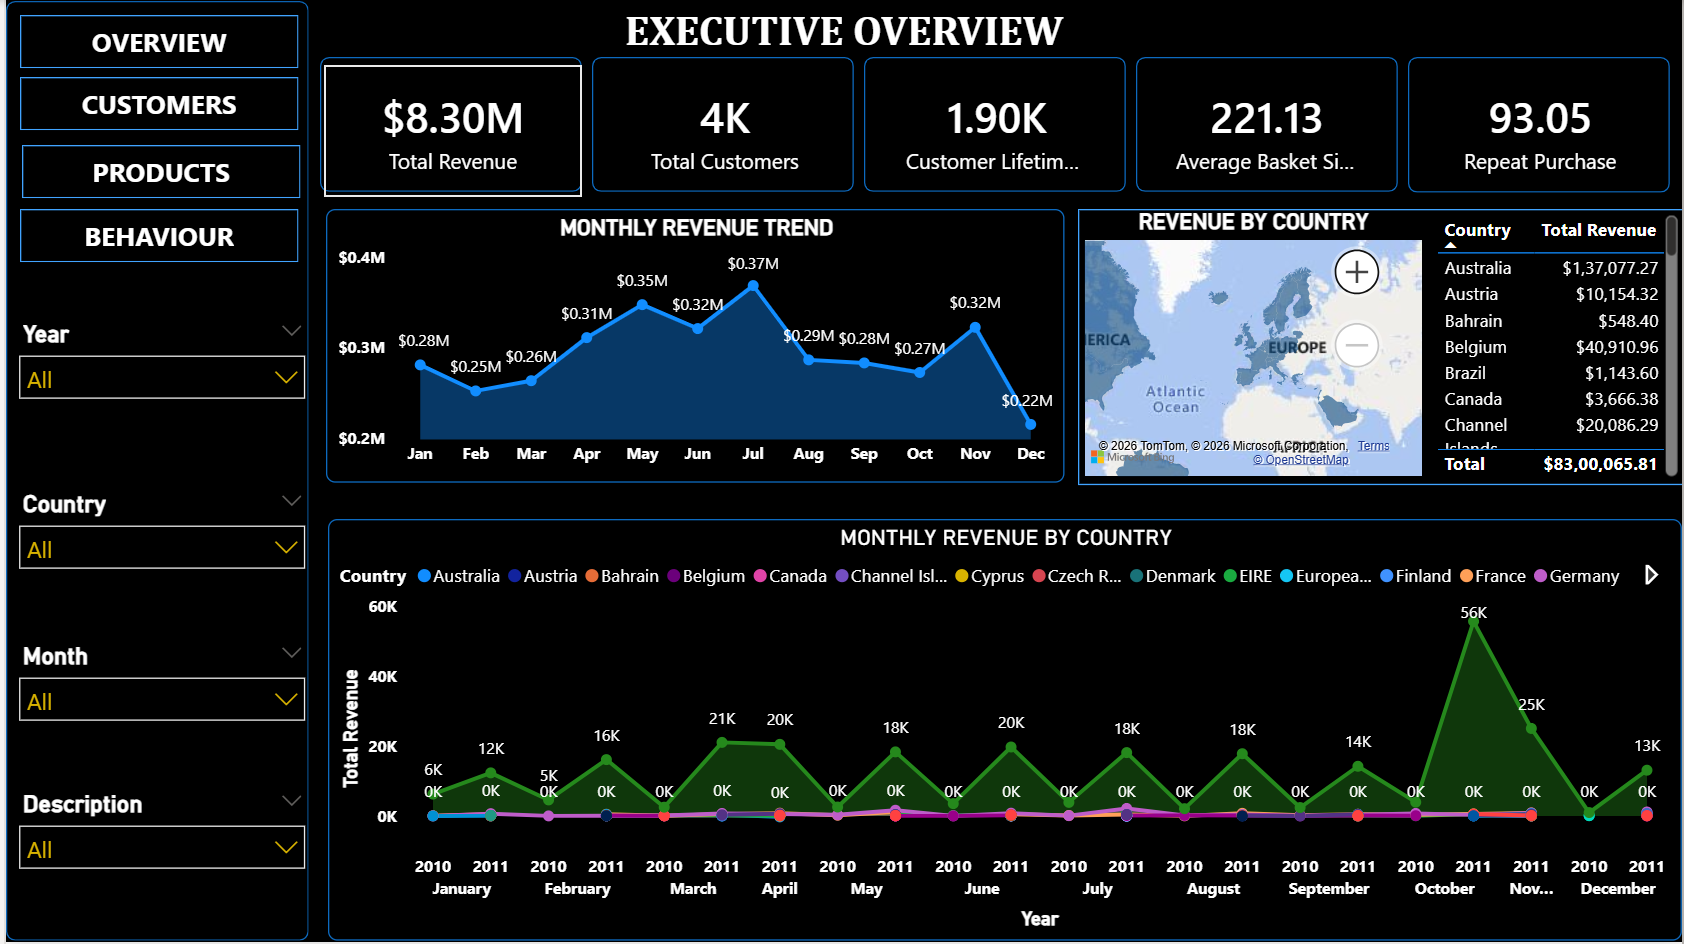

The dashboard page shown, as its layout file describes it:
{"tool":"powerbi","page":{"name":"OVERVIEW","canvas":[1280,720],"ordinal":0},"visuals":[{"type":"textbox","box":[0,0,1280,53.6],"z":0},{"type":"shape","box":[1071,44.4,200,103.6],"z":1000},{"type":"cardVisual","fields":{"Data":["data.Total Revenue"]},"box":[312.6,44.4,175.7,101.7],"z":2000},{"type":"shape","box":[240.5,44.4,200,103],"z":3000},{"type":"shape","box":[448.1,44.4,200,103],"z":4000},{"type":"shape","box":[655.7,44.4,200,103],"z":5000},{"type":"shape","box":[863.4,44.4,200,103],"z":6000},{"type":"cardVisual","fields":{"Data":["data.Total Revenue"]},"box":[242.3,49.9,197.9,101.7],"z":7000},{"type":"cardVisual","fields":{"Data":["data.Total Customers"]},"box":[449.9,49.9,197.9,101.7],"z":8000},{"type":"cardVisual","fields":{"Data":["data.CLV"]},"box":[657.6,49.9,197.9,101.7],"z":9000},{"type":"cardVisual","fields":{"Data":["data.Average Basket Size"]},"box":[865.2,49.9,197.9,101.7],"z":10000},{"type":"cardVisual","fields":{"Data":["data.Repeat Purchase"]},"box":[1072.8,49.9,199.8,101.7],"z":11000},{"type":"shape","box":[0,1.8,231.2,717.7],"z":12000},{"type":"areaChart","title":"MONTHLY REVENUE BY COUNTRY","fields":{"Y":["data.Total Revenue"],"Series":["data.Country"],"Category":["data.InvoiceDate.Variation.Date Hierarchy.Month","data.Year"]},"box":[246,397.7,1034,321.8],"z":14000},{"type":"actionButton","box":[11.1,12.9,212.7,40.7],"z":15000},{"type":"actionButton","box":[11.1,59.2,212.7,40.7],"z":16000},{"type":"actionButton","box":[12.9,111,212.7,40.7],"z":17000},{"type":"actionButton","box":[11.1,160.9,212.7,40.7],"z":18000},{"type":"slicer","fields":{"Values":["data.Description"]},"box":[0,599.3,238.6,90.6],"z":19000},{"type":"slicer","fields":{"Values":["data.Month"]},"box":[0,486.5,238.6,77.7],"z":20000},{"type":"slicer","fields":{"Values":["data.Country"]},"box":[0,369.9,238.6,81.4],"z":21000},{"type":"slicer","fields":{"Values":["data.Year"]},"box":[0,240.5,238.6,96.2],"z":22000},{"type":"lineChart","title":"MONTHLY REVENUE TREND","fields":{"Category":["data.Month"],"Y":["data.Total Revenue"]},"box":[244.2,160.9,564.2,209],"z":23000},{"type":"shape","box":[819.4,160.9,462.4,210.9],"z":24000},{"type":"filledMap","title":"REVENUE BY COUNTRY","fields":{"Category":["data.Country"]},"box":[819.4,160.9,268.2,209],"z":25000},{"type":"tableEx","fields":{"Values":["data.Country","data.Total Revenue"]},"box":[1087.6,160.9,194.2,209],"z":26000}]}

Visuals, with their boxes in screenshot pixels (x1, y1, x2, y2), scaled from the page's 1280x720 canvas onto the 1684x944 screenshot:
textbox: [0, 0, 1683, 70]
shape: [1409, 58, 1672, 194]
cardVisual - data.Total Revenue: [411, 58, 642, 192]
shape: [316, 58, 580, 193]
shape: [590, 58, 853, 193]
shape: [863, 58, 1126, 193]
shape: [1136, 58, 1399, 193]
cardVisual - data.Total Revenue: [319, 65, 579, 199]
cardVisual - data.Total Customers: [592, 65, 852, 199]
cardVisual - data.CLV: [865, 65, 1126, 199]
cardVisual - data.Average Basket Size: [1138, 65, 1399, 199]
cardVisual - data.Repeat Purchase: [1411, 65, 1674, 199]
shape: [0, 2, 304, 943]
"MONTHLY REVENUE BY COUNTRY" areaChart: [324, 521, 1683, 943]
actionButton: [15, 17, 294, 70]
actionButton: [15, 78, 294, 131]
actionButton: [17, 146, 297, 199]
actionButton: [15, 211, 294, 264]
slicer - data.Description: [0, 786, 314, 905]
slicer - data.Month: [0, 638, 314, 740]
slicer - data.Country: [0, 485, 314, 592]
slicer - data.Year: [0, 315, 314, 441]
"MONTHLY REVENUE TREND" lineChart: [321, 211, 1064, 485]
shape: [1078, 211, 1683, 487]
"REVENUE BY COUNTRY" filledMap: [1078, 211, 1431, 485]
tableEx - data.Country x data.Total Revenue: [1431, 211, 1683, 485]
